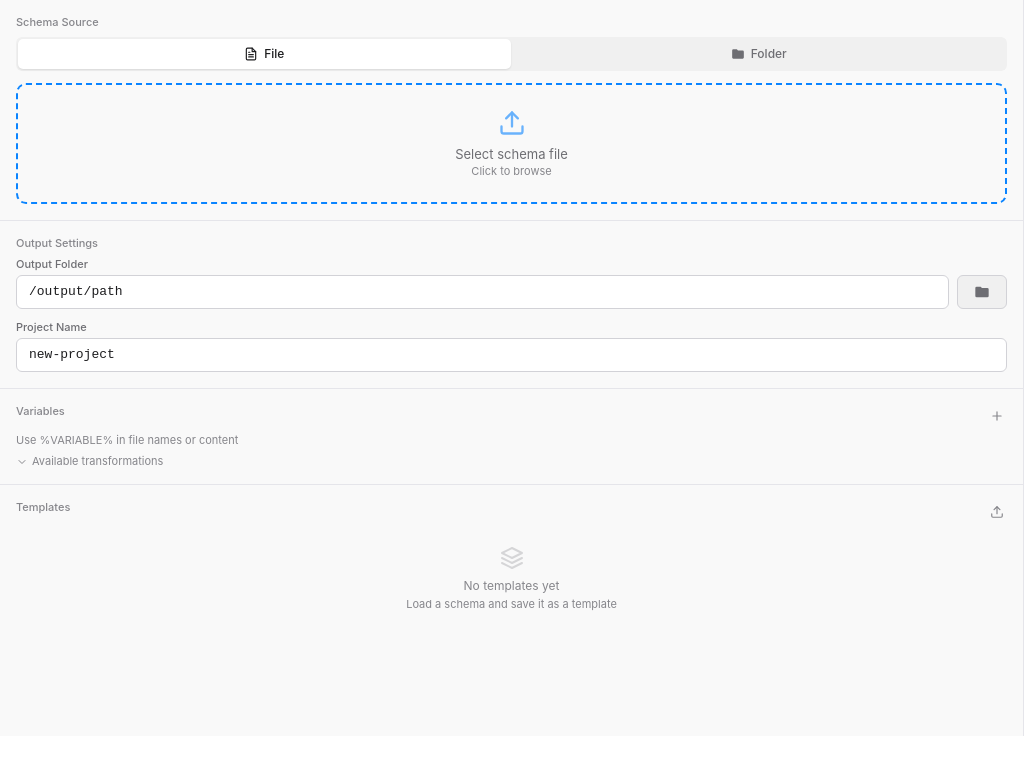
Test: LeftPanel › Variables Section › adding variables › removes invalid characters from variable name
This screenshot has width=1024, height=768.
Click the button titled "Add variable" at (997, 416), box [987,406,1007,426]
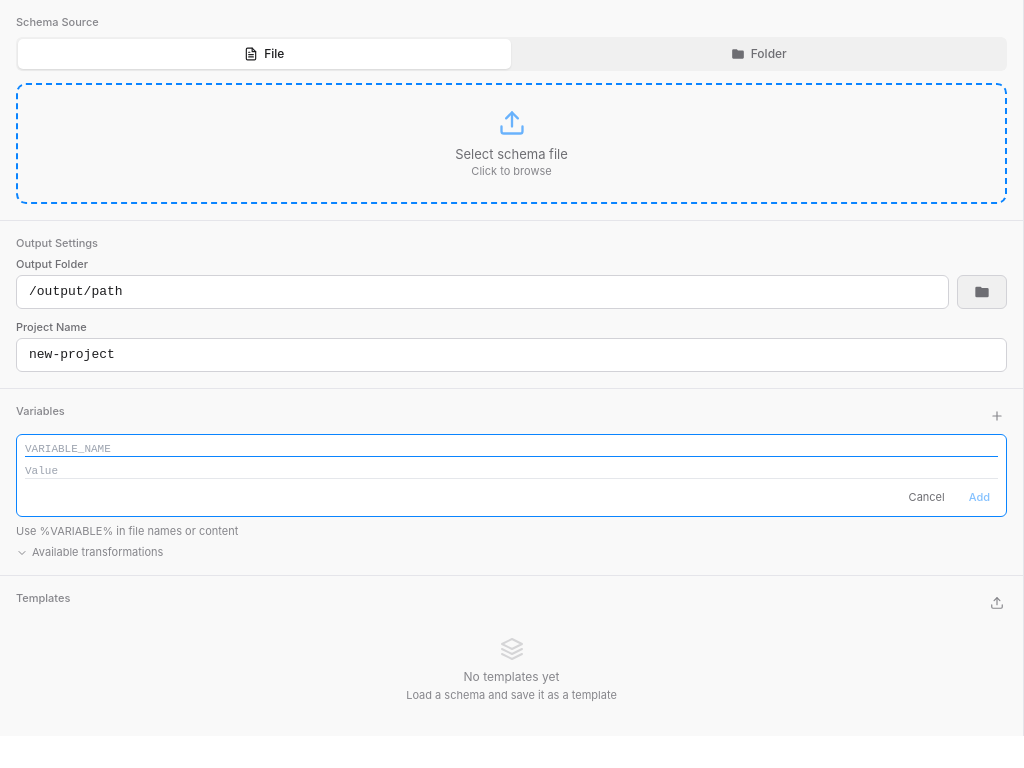
Type "test@#$_var" into the field with placeholder "VARIABLE_NAME" at (512, 450), box [25,443,998,457]
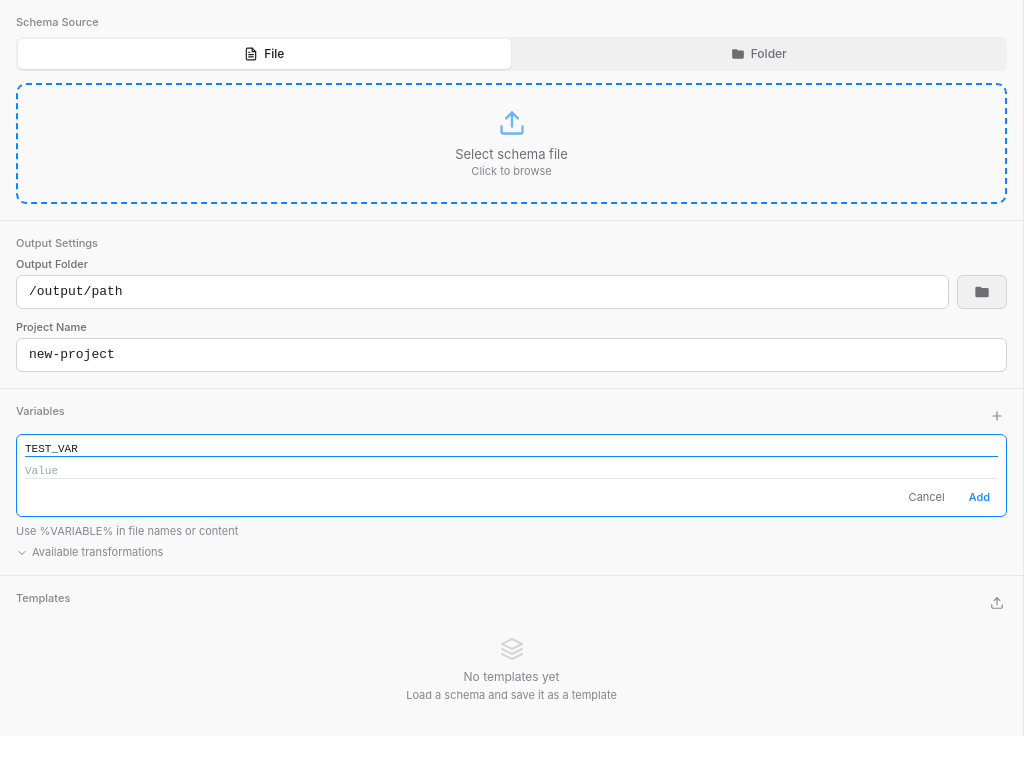
Expected: the field with placeholder "VARIABLE_NAME" below "Variables" holds "TEST_VAR", [25,443,998,457]
